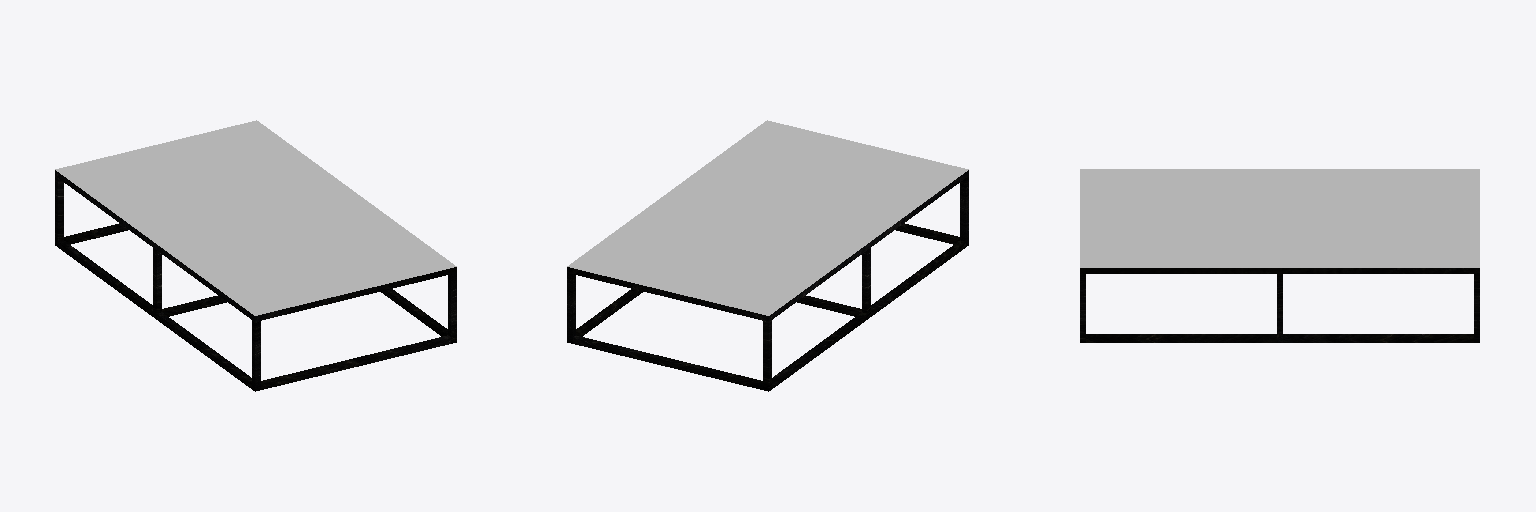
The picture shows the model from 3 angles: view 1: azimuth 30°, elevation 25°; view 2: azimuth 150°, elevation 25°; view 3: azimuth 270°, elevation 25°; orthographic projection.
Visible parts, largest first — view 1: madera_Plane.001, base_Plane; view 2: madera_Plane.001, base_Plane; view 3: madera_Plane.001, base_Plane.
Boxes of the visible parts, <box> form: madera_Plane.001: <box>55,120,456,315</box>; base_Plane: <box>55,170,456,391</box>; madera_Plane.001: <box>567,120,968,315</box>; base_Plane: <box>567,170,968,391</box>; madera_Plane.001: <box>1080,169,1479,267</box>; base_Plane: <box>1080,268,1479,342</box>.
Size of the model in its own units: 0.7 by 0.25 by 1.2.
2 materials, 1 textured.